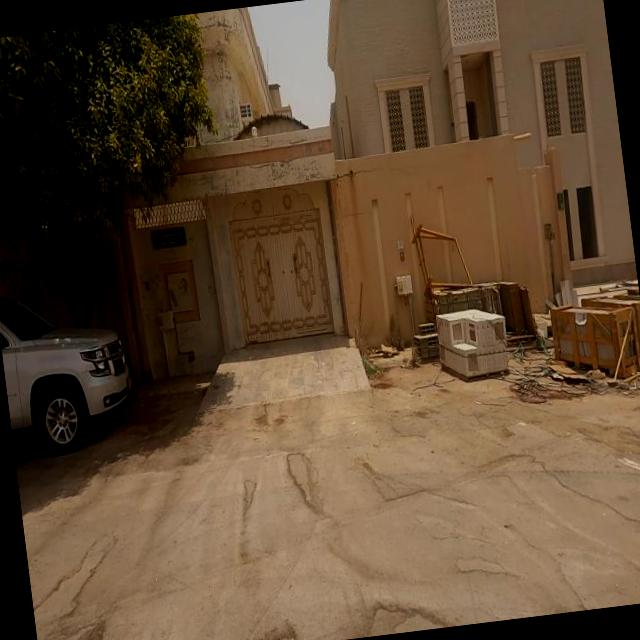debris: (452, 265, 626, 474), (545, 318, 640, 459), (327, 286, 435, 404)
